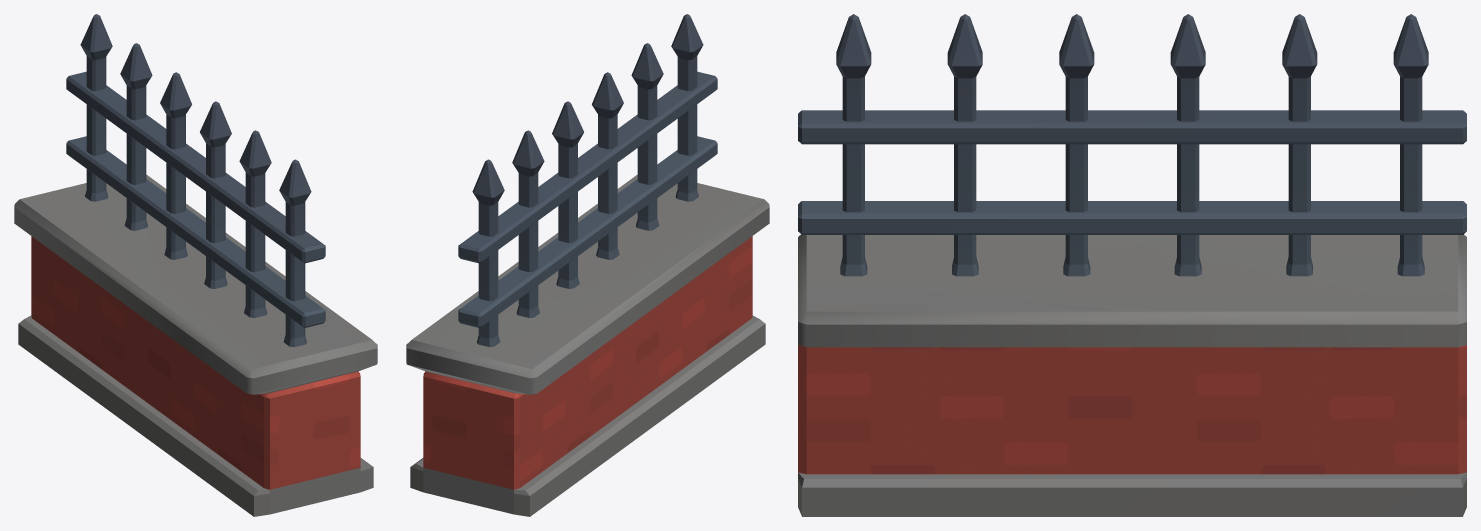
File: BrickWall_4_1.glb
3 views of the same model, side by side, from view 1: azimuth 30°, elevation 25°; view 2: azimuth 150°, elevation 25°; view 3: azimuth 270°, elevation 25° (orthographic). The views are drawn at different scales.
Visible parts, largest first — view 1: BrickWall_4_1; view 2: BrickWall_4_1; view 3: BrickWall_4_1.
Part boxes in pixels (left/top/right/bottom): BrickWall_4_1: left=14, top=14, right=377, bottom=516; BrickWall_4_1: left=406, top=14, right=769, bottom=516; BrickWall_4_1: left=798, top=14, right=1466, bottom=516.
Size of the model in its own units: 0.6357 by 1.52 by 2.
Materials: 3 (3 with a texture image).
